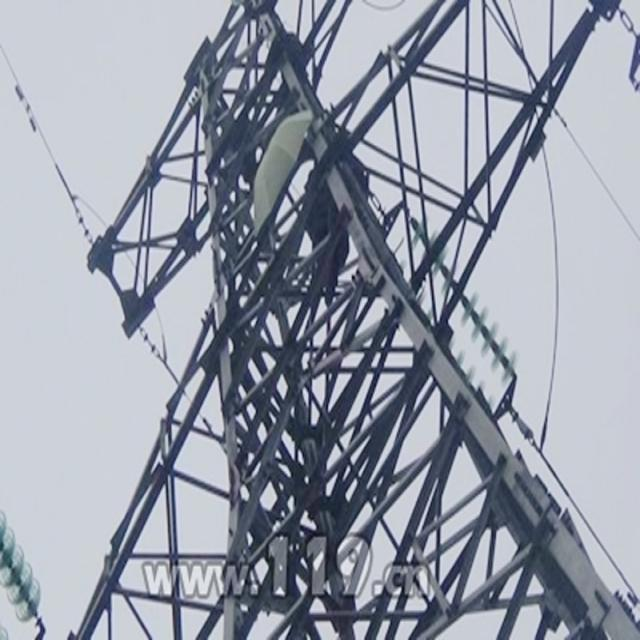non-critical vegetation: (59, 26, 606, 618)
